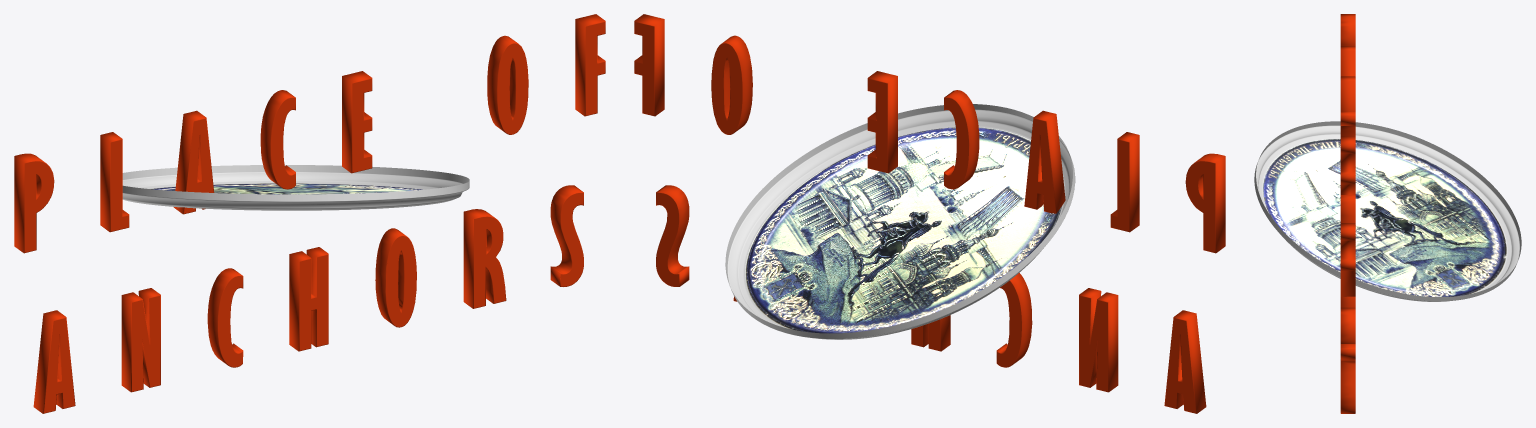
The model's file is Mirror_anim_v8.glb.
3 views of the same model, side by side, from view 1: azimuth 30°, elevation 25°; view 2: azimuth 150°, elevation 25°; view 3: azimuth 270°, elevation 25° (orthographic). The views are drawn at different scales.
Visible parts, largest first — view 1: Text.001, Cylinder.001; view 2: Cylinder.001, Text.001; view 3: Cylinder.001, Text.001.
Part boxes in pixels (left/top/right/bottom): Text.001: left=14, top=14, right=605, bottom=413; Cylinder.001: left=122, top=165, right=469, bottom=210; Cylinder.001: left=725, top=104, right=1075, bottom=339; Text.001: left=634, top=14, right=1225, bottom=413; Cylinder.001: left=1254, top=121, right=1521, bottom=301; Text.001: left=1340, top=14, right=1355, bottom=413.
Size of the model in its own units: 1.33 by 0.5602 by 0.6911.
3 materials, 1 textured.
